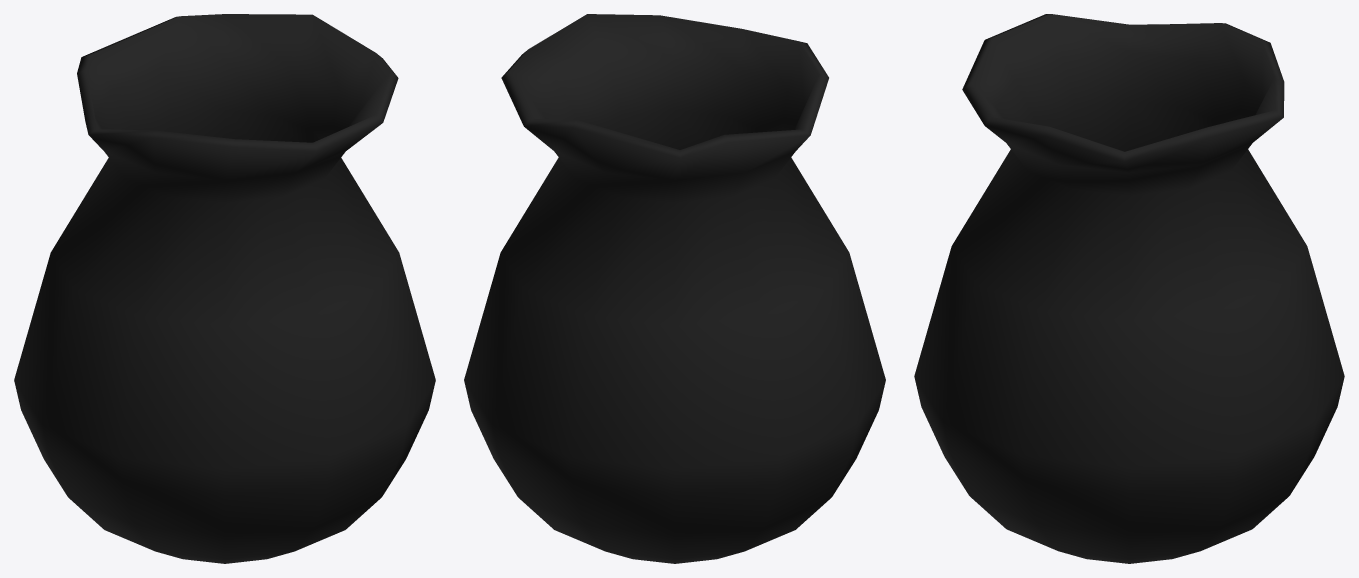
The model's file is TrashBag.fbx.
The picture shows the model from 3 angles, left to right: view 1: azimuth 30°, elevation 25°; view 2: azimuth 150°, elevation 25°; view 3: azimuth 270°, elevation 25°; orthographic projection. The views are drawn at different scales.
Parts seen in each view (by area): view 1: Cylinder.002; view 2: Cylinder.002; view 3: Cylinder.002.
Boxes of the visible parts, left/top/right/bottom form: Cylinder.002: left=14, top=14, right=435, bottom=563; Cylinder.002: left=464, top=14, right=885, bottom=563; Cylinder.002: left=914, top=14, right=1344, bottom=563.
Bounding box in the file's own units: 62.4 × 75.8 × 62.4.
